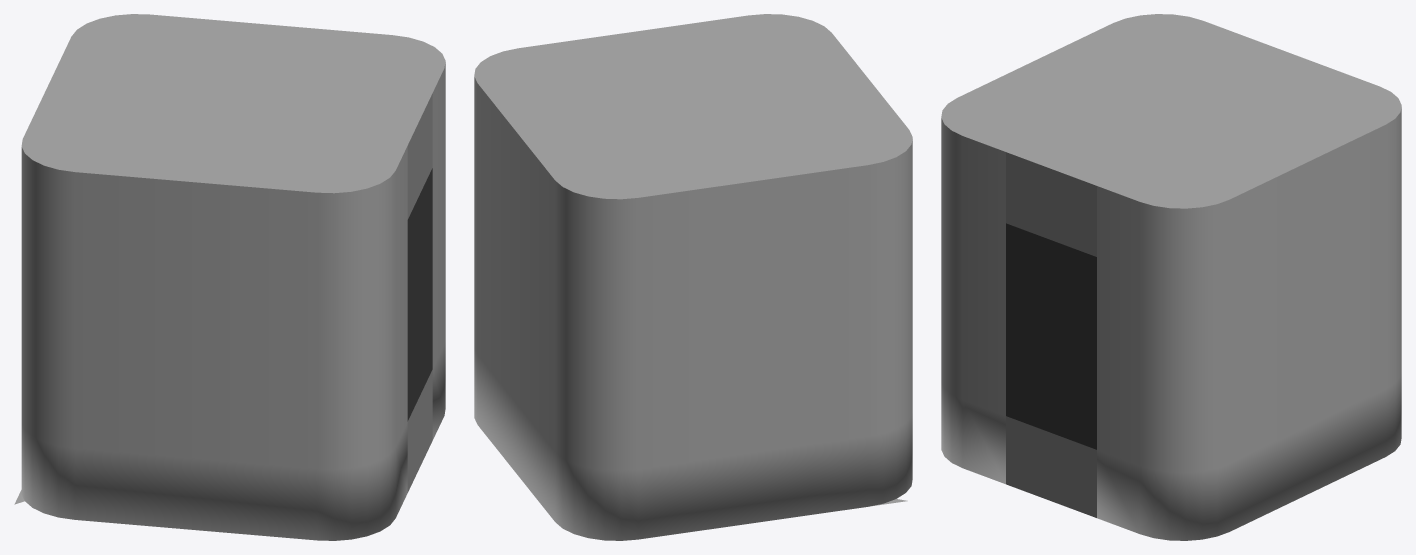
The model's file is -Tool Charger-.fbx.
The picture shows the model from 3 angles, left to right: view 1: azimuth 30°, elevation 25°; view 2: azimuth 150°, elevation 25°; view 3: azimuth 270°, elevation 25°; orthographic projection. The views are drawn at different scales.
Visible parts, largest first — view 1: Tool_Charger.Main; view 2: Tool_Charger.Main; view 3: Tool_Charger.Main.
Boxes of the visible parts, x1,y1,x2,y2 form: Tool_Charger.Main: (14, 14, 445, 540); Tool_Charger.Main: (474, 14, 912, 540); Tool_Charger.Main: (941, 14, 1401, 540).
Size of the model in its own units: 1.06 by 0.825 by 1.04.
